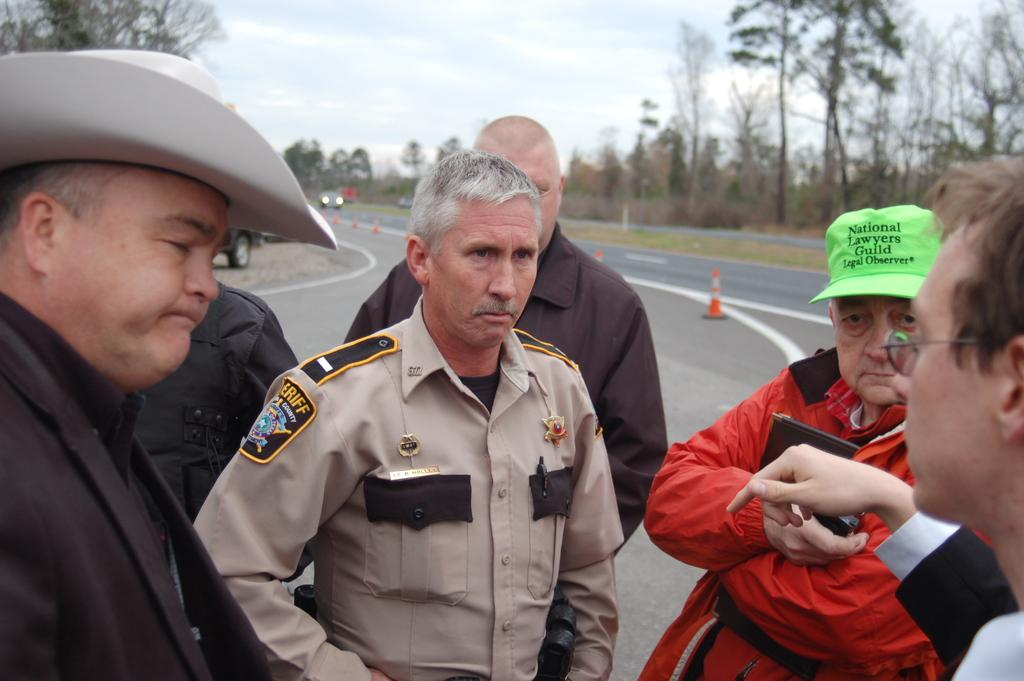Hat: (0, 45, 338, 250), (806, 206, 952, 304)
